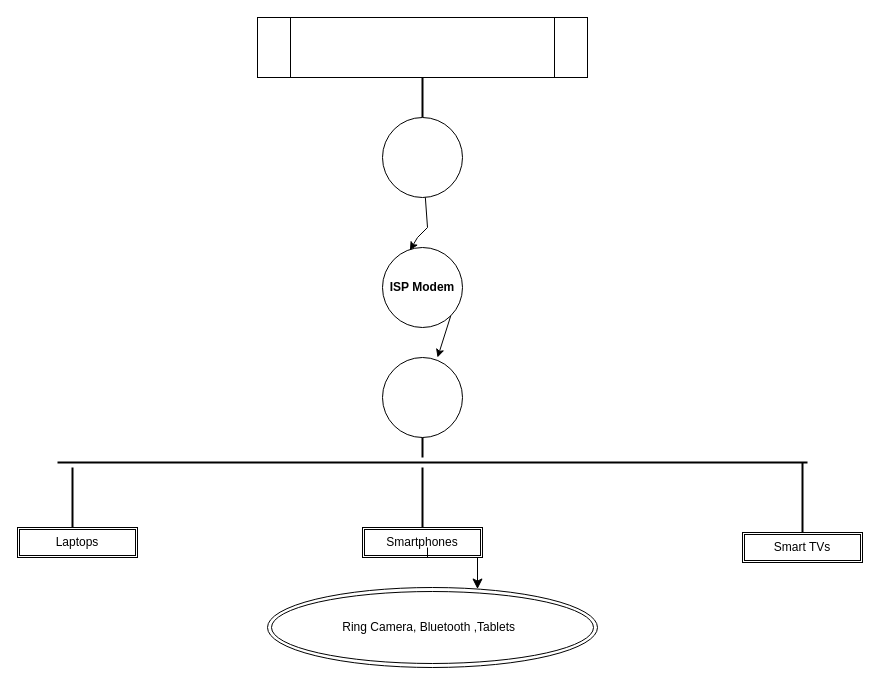
The diagram is 880 pixels wide and 685 high, and some of its shapes have lost their labels. The centre of each missing label's shape, as x and y in pixels:
HOME NETWORK (DIAGRAM): the point at 422,47
Home Router: the point at 422,397
My Internet COX: the point at 422,157
